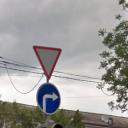preferencia: (32, 42, 65, 81)
